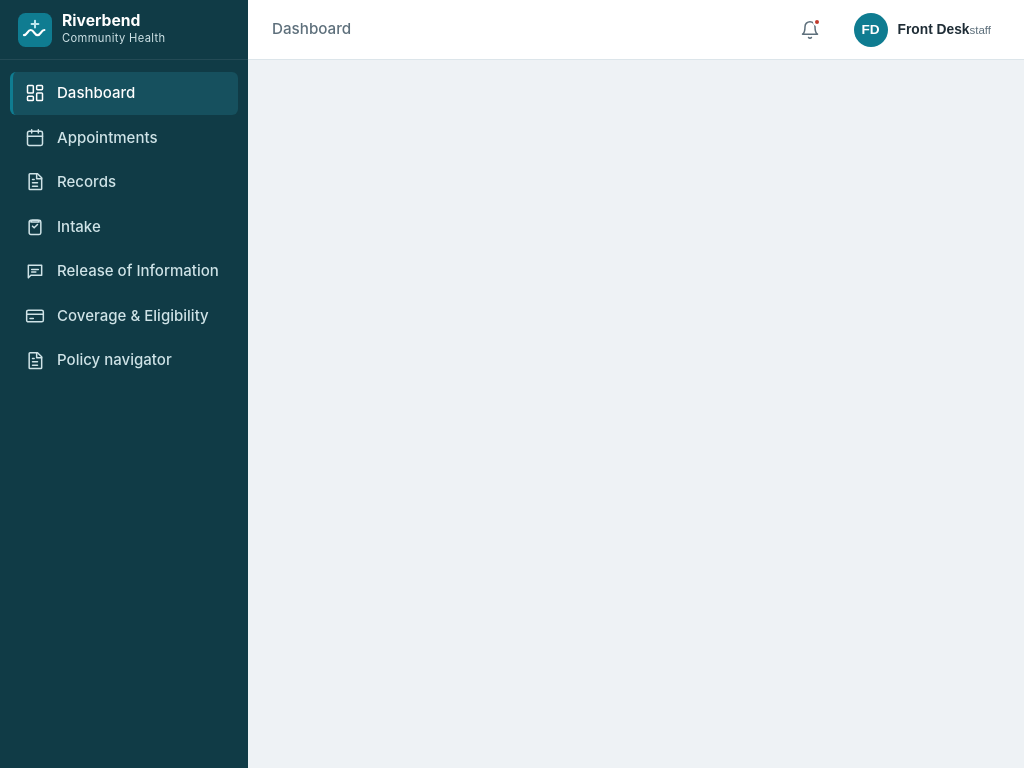
signing out of a shared workstation › does NOT clear the local session when the gateway returns an error status
Click the button with class "rb-usermenu__btn" at (922, 30), box [845,6,1000,54]
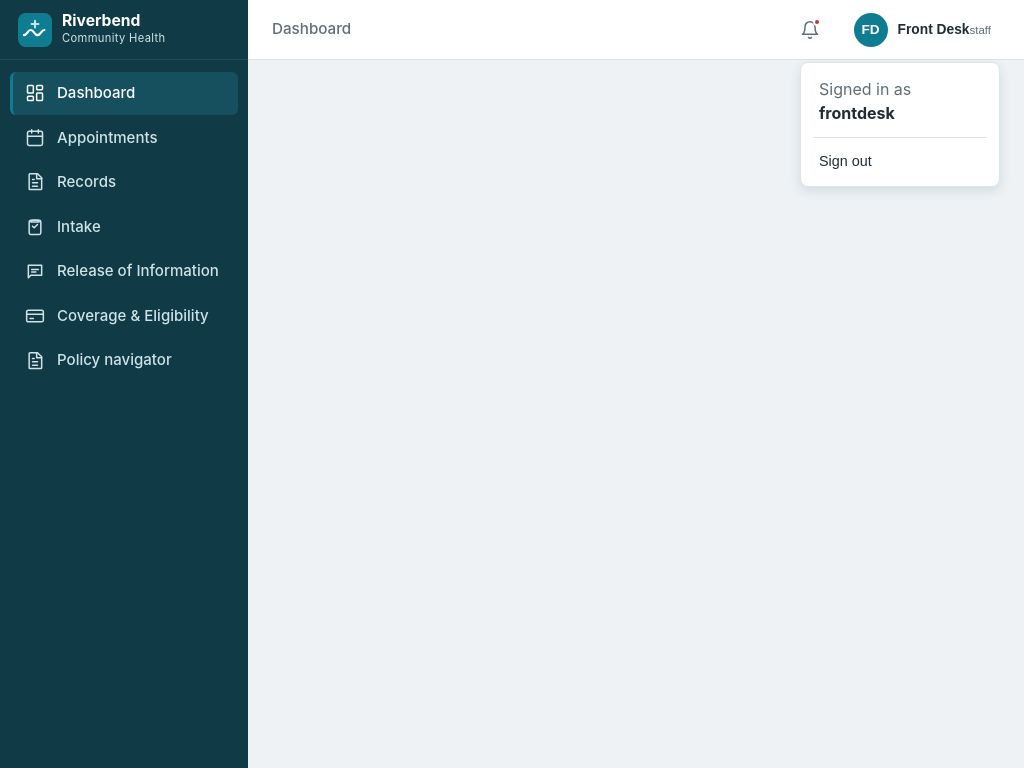
Click the menu item "Sign out" at (900, 160), box [809,144,991,178]
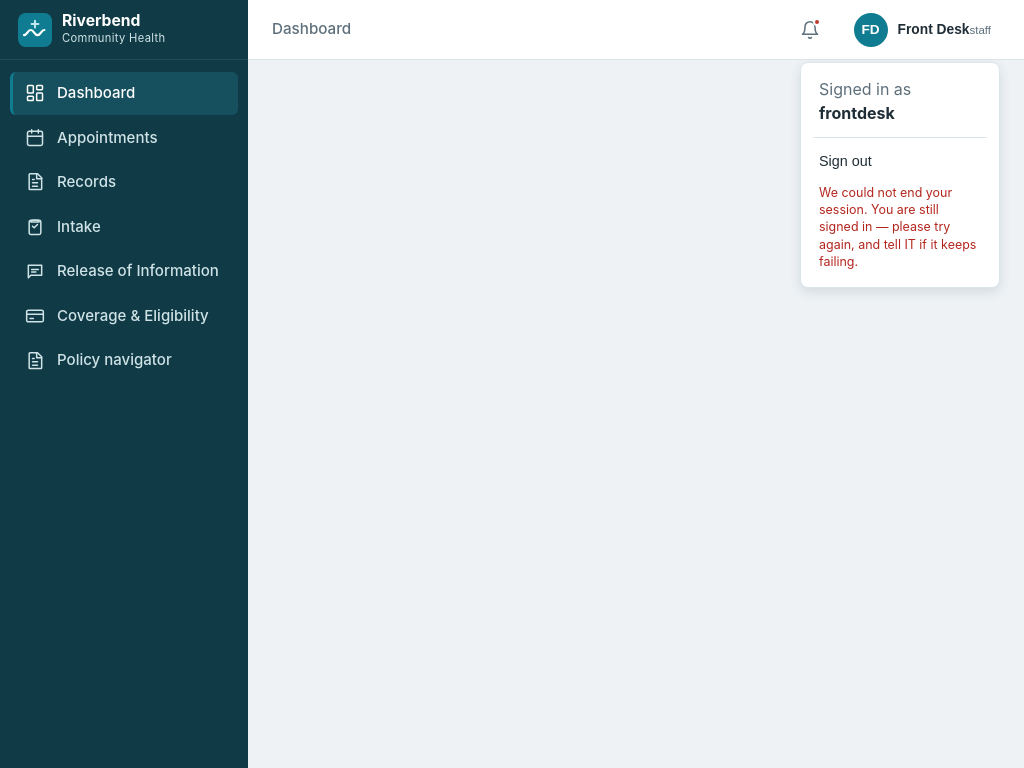
Result: the message is shown at [819,184,981,271]
